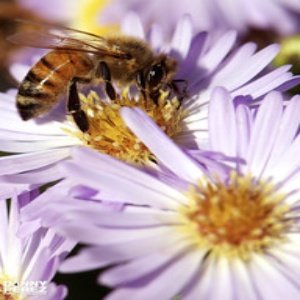bee: (5, 10, 198, 134)
